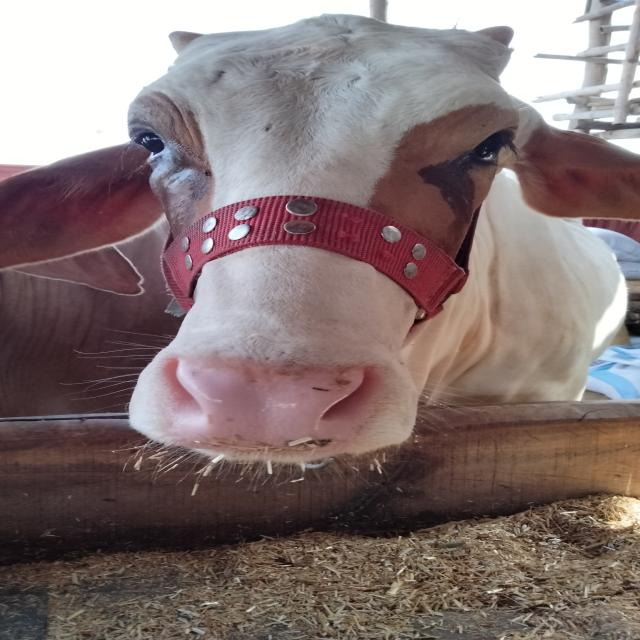muzzles: (127, 342, 421, 467)
